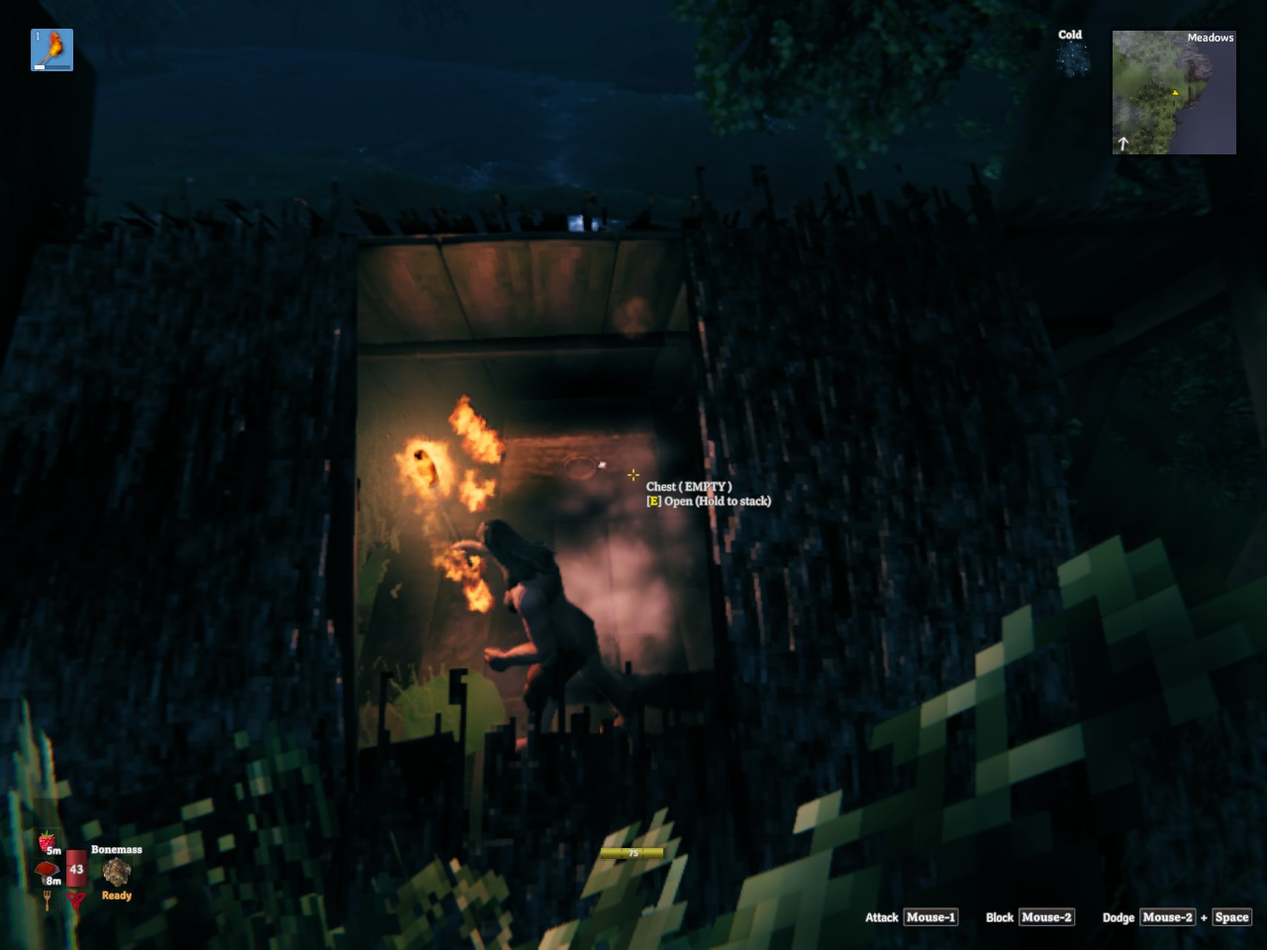Chest: (497, 413, 673, 515)
